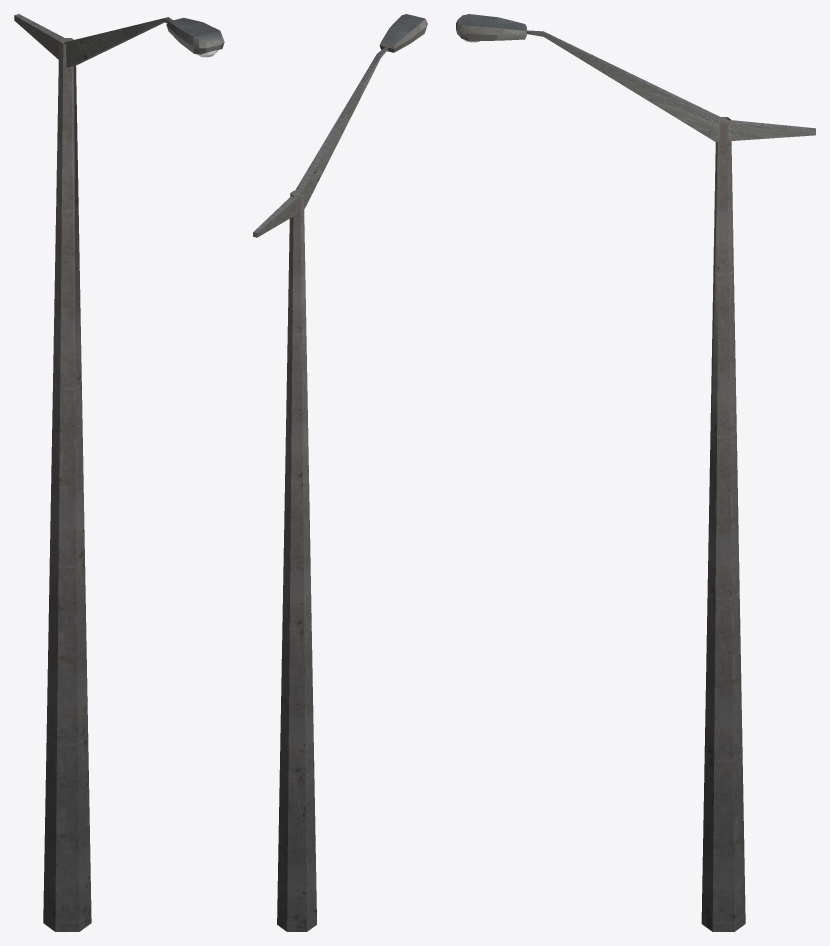
Rendered from Pillar3.FBX.
The picture shows the model from 3 angles, left to right: view 1: azimuth 30°, elevation 25°; view 2: azimuth 150°, elevation 25°; view 3: azimuth 270°, elevation 25°; orthographic projection. The views are drawn at different scales.
Visible parts, largest first — view 1: Pillar3; view 2: Pillar3; view 3: Pillar3.
Part boxes in pixels (bbox=[...]): Pillar3: bbox=[14, 14, 224, 931]; Pillar3: bbox=[253, 14, 427, 931]; Pillar3: bbox=[456, 14, 815, 931].
Bounding box in the file's own units: 0.4091 × 3.86 × 10.69.
